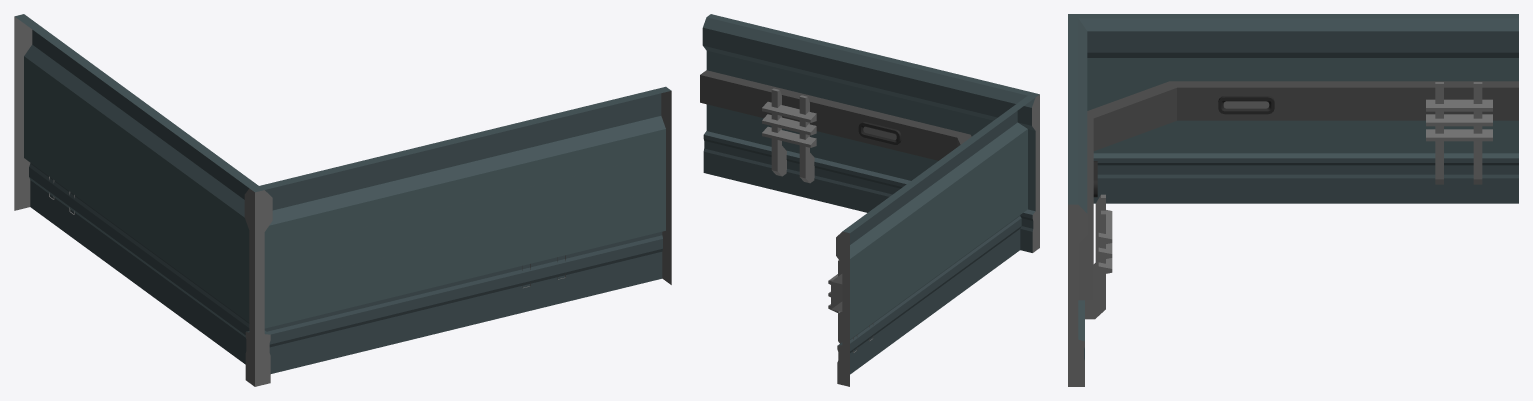
The model's file is SM_wall_front_angle_03.fbx.
3 views of the same model, side by side, from view 1: azimuth 30°, elevation 25°; view 2: azimuth 150°, elevation 25°; view 3: azimuth 270°, elevation 25° (orthographic). The views are drawn at different scales.
Visible parts, largest first — view 1: SM_wall_front_angle_03; view 2: SM_wall_front_angle_03; view 3: SM_wall_front_angle_03.
Boxes of the visible parts, <box> form: SM_wall_front_angle_03: <box>14,14,671,386</box>; SM_wall_front_angle_03: <box>700,14,1039,386</box>; SM_wall_front_angle_03: <box>1068,14,1518,386</box>.
Size of the model in its own units: 300 by 134 by 300.
Materials: 2 (2 with a texture image).
